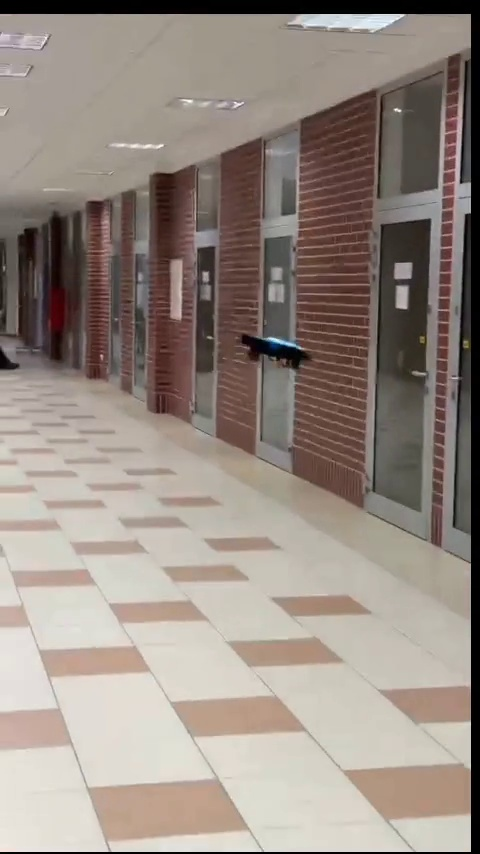drone: (239, 325, 306, 370)
